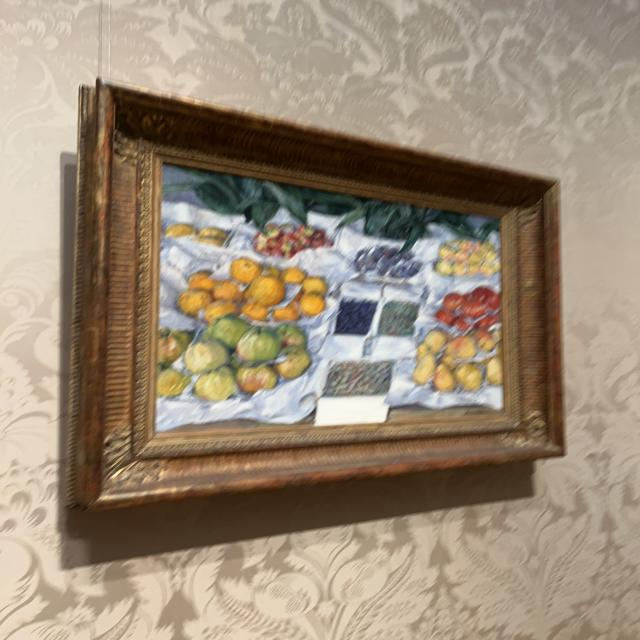fruits: (160, 167, 500, 429)
